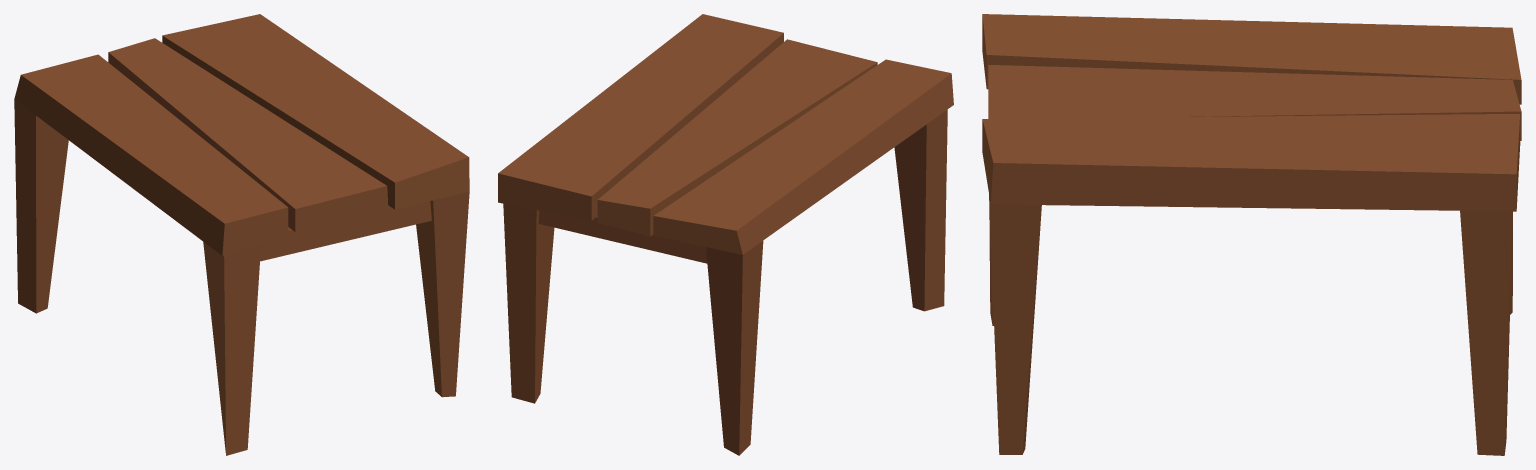
The model's file is chairwoodstool01.obj.
3 views of the same model, side by side, from view 1: azimuth 30°, elevation 25°; view 2: azimuth 150°, elevation 25°; view 3: azimuth 270°, elevation 25° (orthographic). The views are drawn at different scales.
Parts seen in each view (by area): view 1: Cube_Cube.001; view 2: Cube_Cube.001; view 3: Cube_Cube.001.
Boxes of the visible parts, x1,y1,x2,y2 form: Cube_Cube.001: (14, 14, 469, 455); Cube_Cube.001: (498, 14, 953, 455); Cube_Cube.001: (982, 14, 1521, 455).
Bounding box in the file's own units: 0.3375 × 0.3059 × 0.5.
